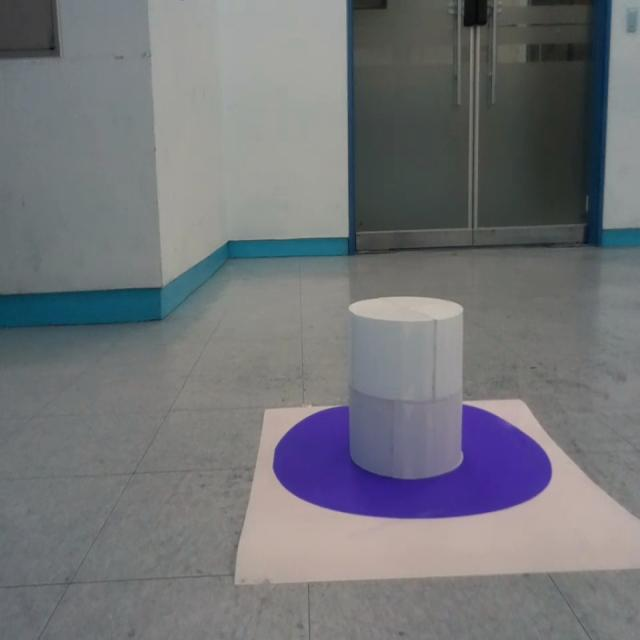cylinder: (348, 296, 466, 479)
